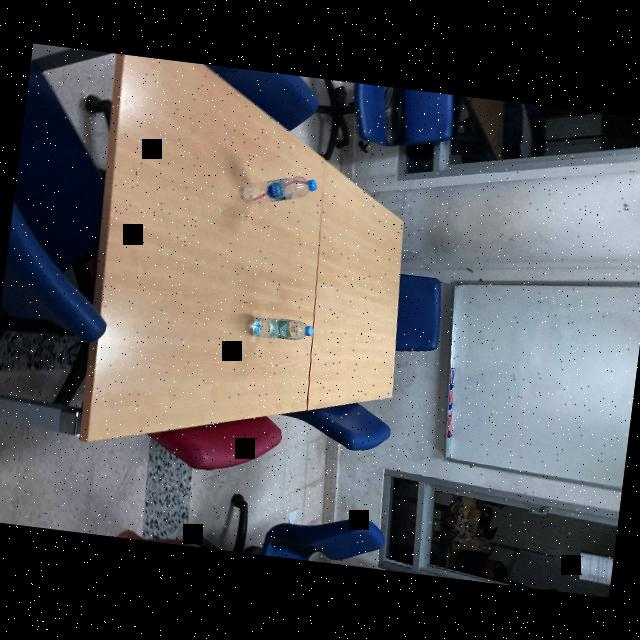plastic_bottle: (237, 170, 316, 210), (242, 314, 314, 344)
plastic_bottle_cap: (302, 324, 314, 337), (306, 180, 316, 190)
straw: (246, 174, 308, 208)
